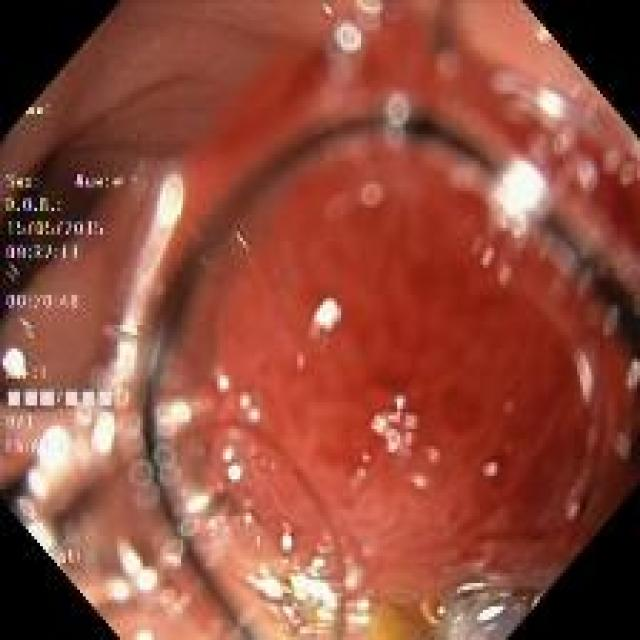Polyps: (150, 117, 640, 637)
